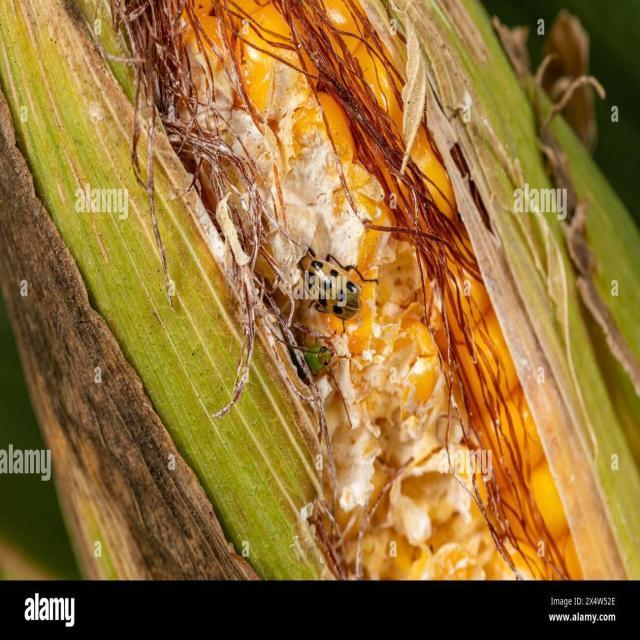gusano_verde: (288, 238, 381, 338)
